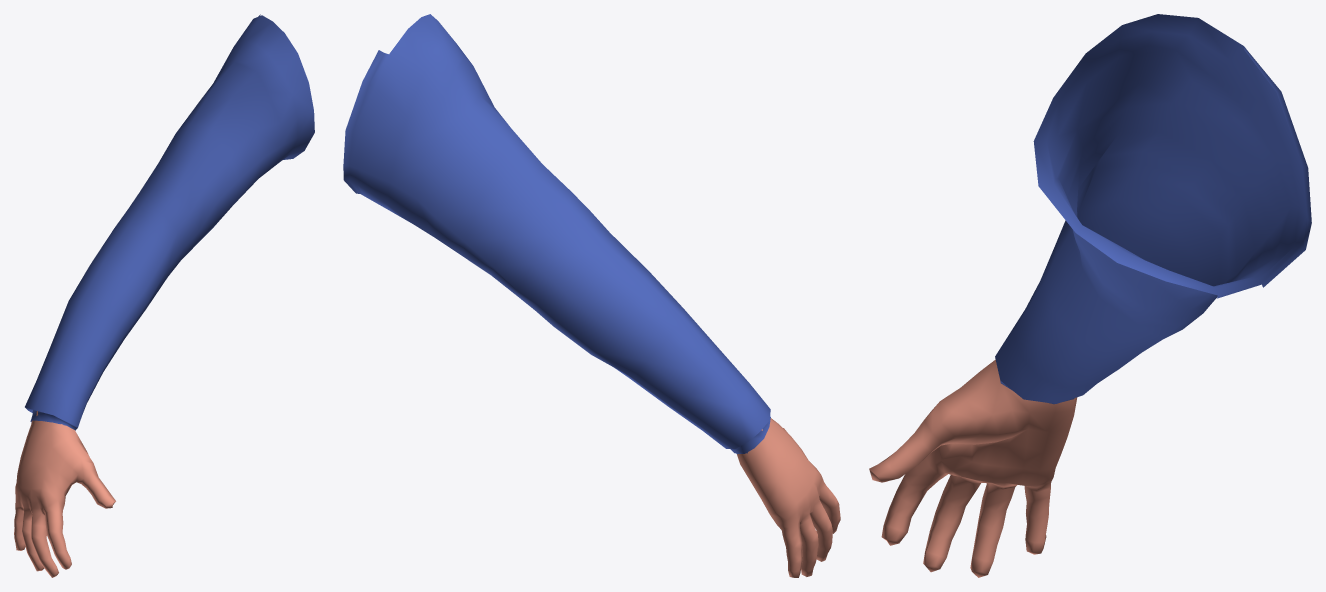
The model's file is Hand.fbx.
The picture shows the model from 3 angles, left to right: view 1: azimuth 30°, elevation 25°; view 2: azimuth 150°, elevation 25°; view 3: azimuth 270°, elevation 25°; orthographic projection. The views are drawn at different scales.
Visible parts, largest first — view 1: SuitGEO01.001, SuitGEO01.002; view 2: SuitGEO01.001, SuitGEO01.002; view 3: SuitGEO01.001, SuitGEO01.002.
Boxes of the visible parts, left/top/right/bottom form: SuitGEO01.001: left=25, top=14, right=314, bottom=430; SuitGEO01.002: left=14, top=411, right=115, bottom=577; SuitGEO01.001: left=343, top=14, right=770, bottom=454; SuitGEO01.002: left=737, top=418, right=840, bottom=577; SuitGEO01.001: left=995, top=14, right=1311, bottom=404; SuitGEO01.002: left=869, top=359, right=1077, bottom=577.
Size of the model in its own units: 45.89 by 60.47 by 29.82.
